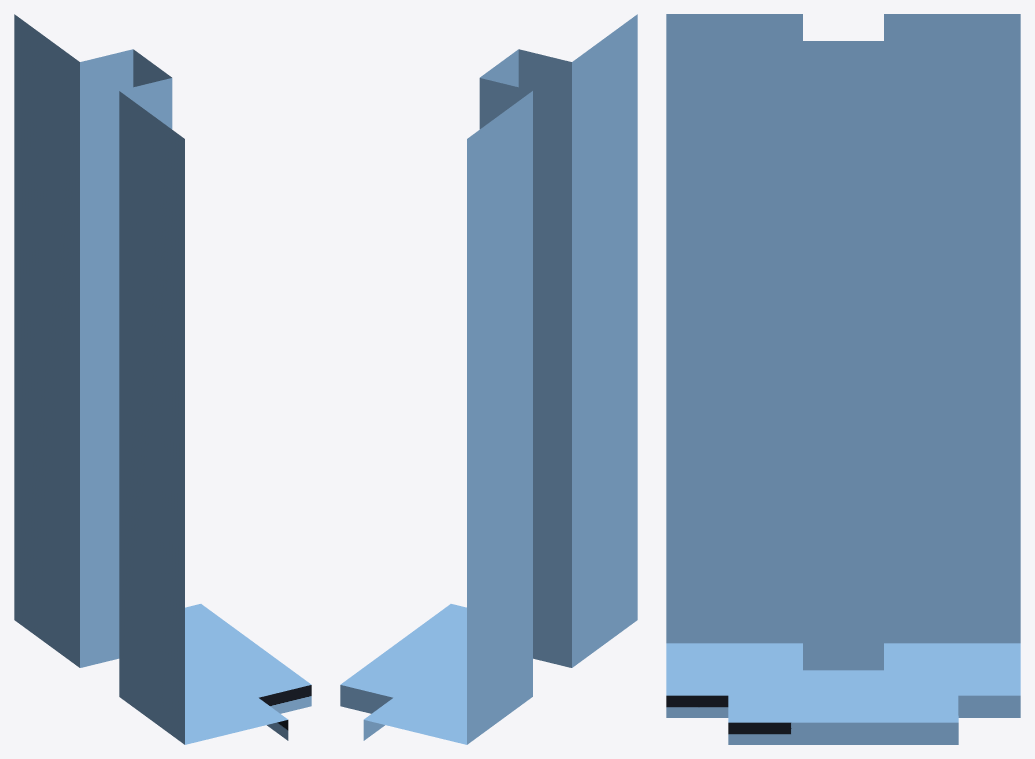
Rendered from StorefrontFiller.FBX.
The picture shows the model from 3 angles, left to right: view 1: azimuth 30°, elevation 25°; view 2: azimuth 150°, elevation 25°; view 3: azimuth 270°, elevation 25°; orthographic projection. The views are drawn at different scales.
Parts seen in each view (by area): view 1: Storefront_Filler; view 2: Storefront_Filler; view 3: Storefront_Filler.
Boxes of the visible parts, x1,y1,x2,y2 form: Storefront_Filler: (14,14,311,744); Storefront_Filler: (340,14,637,744); Storefront_Filler: (666,14,1020,744).
Size of the model in its own units: 0.7953 by 1.5 by 3.04.
Materials: 1 (1 with a texture image).
